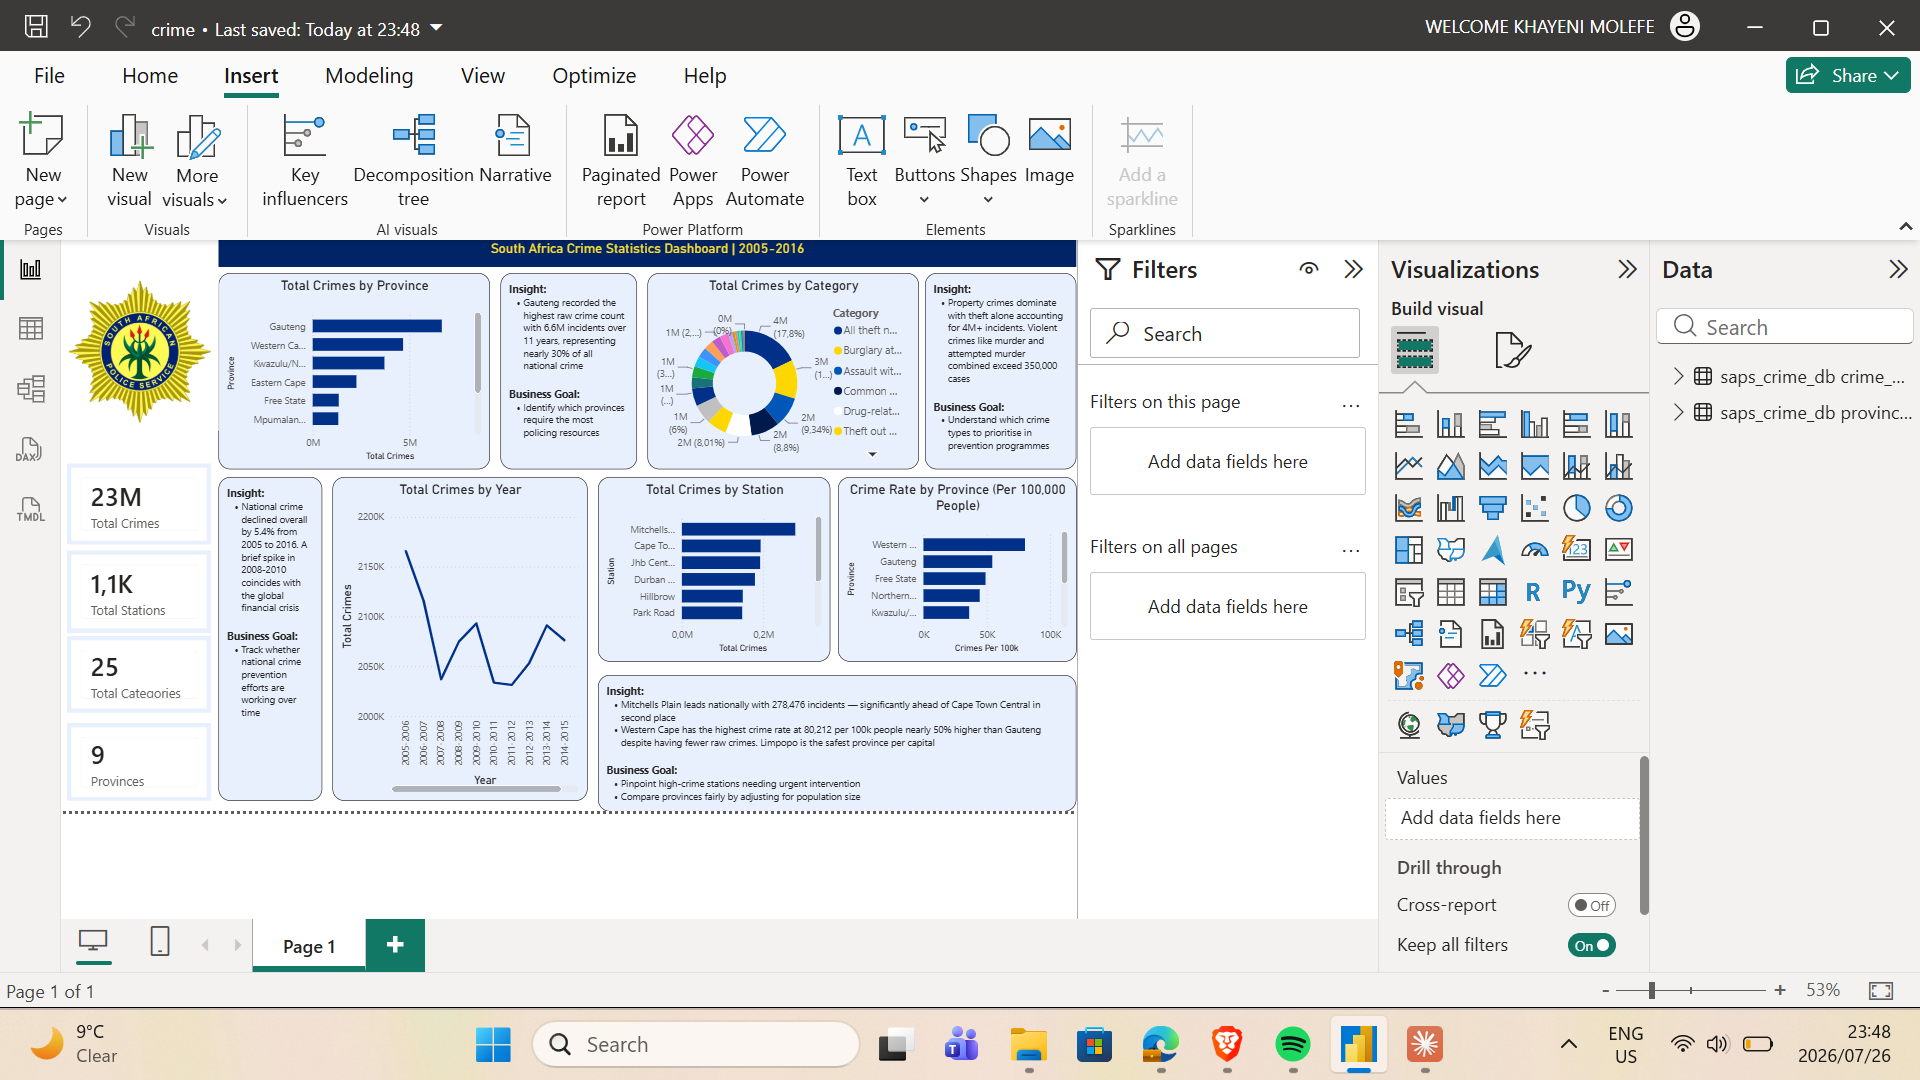

The page's visual inventory and layout, read from the dashboard file:
{"tool":"powerbi","page":{"name":"Page 1","canvas":[1280,720],"ordinal":0},"visuals":[{"type":"clusteredBarChart","fields":{"Category":["saps_crime_db crime_stats.Province"],"Y":["saps_crime_db crime_stats.Total Crimes"]},"box":[198.4,41.6,342,247.6],"z":0},{"type":"donutChart","fields":{"Y":["saps_crime_db crime_stats.Total Crimes"],"Category":["saps_crime_db crime_stats.Category"]},"box":[738.9,41.6,342,247.6],"z":1000},{"type":"lineChart","fields":{"Y":["saps_crime_db crime_stats.Total Crimes"],"Category":["saps_crime_db crime_stats.Year"]},"box":[342,298.6,321.3,408.2],"z":2000},{"type":"clusteredBarChart","fields":{"Category":["saps_crime_db crime_stats.Station"],"Y":["saps_crime_db crime_stats.Total Crimes"]},"box":[676.5,298.6,292.9,232.4],"z":3000},{"type":"clusteredBarChart","title":"Crime Rate by Province (Per 100,000 People)","fields":{"Y":["saps_crime_db crime_stats.Crimes Per 100k"],"Category":["saps_crime_db crime_stats.Province"]},"box":[978.9,298.6,300.5,232.4],"z":4000},{"type":"textbox","box":[553.7,41.6,172,247.6],"z":5000},{"type":"textbox","box":[1088.5,41.6,190.9,247.6],"z":6000},{"type":"textbox","box":[198.4,298.6,130.4,408.2],"z":7000},{"type":"textbox","box":[676.5,548,602.8,172],"z":8000},{"type":"cardVisual","fields":{"Data":["saps_crime_db crime_stats.Total Crimes"]},"box":[7.6,281.6,181.4,102],"z":9000},{"type":"cardVisual","fields":{"Data":["Count(saps_crime_db crime_stats.Station)"]},"box":[7.6,391.2,181.4,103.9],"z":10000},{"type":"cardVisual","fields":{"Data":["Count(saps_crime_db crime_stats.Category)"]},"box":[7.6,498.9,181.4,96.4],"z":11000},{"type":"cardVisual","fields":{"Data":["Count(saps_crime_db crime_stats.Province)"]},"box":[7.6,608.5,181.4,98.3],"z":12000},{"type":"image","box":[0,0,190.2,282.4],"z":12001},{"type":"shape","title":"South Africa Crime Statistics Dashboard | 2005-2016","box":[198.4,0,1081,34],"z":12002}]}

Visuals, with their boxes on the page's 1280x720 design canvas (x1, y1, x2, y2). These are canvas units, not pixel positions in the 1920x1080 screenshot, which may show the page scaled, cropped or inside an application window:
clusteredBarChart - saps_crime_db crime_stats.Province x saps_crime_db crime_stats.Total Crimes: Rect(198, 42, 540, 289)
donutChart - saps_crime_db crime_stats.Total Crimes x saps_crime_db crime_stats.Category: Rect(739, 42, 1081, 289)
lineChart - saps_crime_db crime_stats.Total Crimes x saps_crime_db crime_stats.Year: Rect(342, 299, 663, 707)
clusteredBarChart - saps_crime_db crime_stats.Station x saps_crime_db crime_stats.Total Crimes: Rect(676, 299, 969, 531)
"Crime Rate by Province (Per 100,000 People)" clusteredBarChart: Rect(979, 299, 1279, 531)
textbox: Rect(554, 42, 726, 289)
textbox: Rect(1088, 42, 1279, 289)
textbox: Rect(198, 299, 329, 707)
textbox: Rect(676, 548, 1279, 720)
cardVisual - saps_crime_db crime_stats.Total Crimes: Rect(8, 282, 189, 384)
cardVisual - Count(saps_crime_db crime_stats.Station): Rect(8, 391, 189, 495)
cardVisual - Count(saps_crime_db crime_stats.Category): Rect(8, 499, 189, 595)
cardVisual - Count(saps_crime_db crime_stats.Province): Rect(8, 608, 189, 707)
image: Rect(0, 0, 190, 282)
"South Africa Crime Statistics Dashboard | 2005-2016" shape: Rect(198, 0, 1279, 34)
